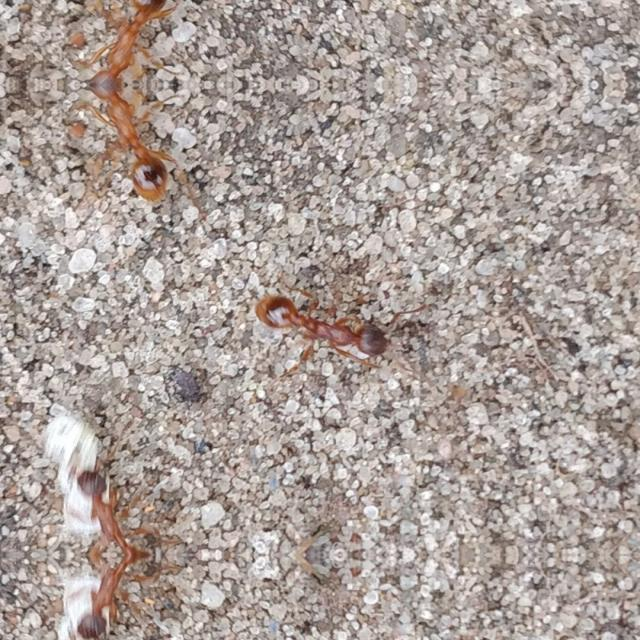Myrmica: (255, 271, 419, 373), (76, 84, 180, 208), (61, 454, 159, 554), (74, 0, 180, 84), (61, 554, 159, 640)
